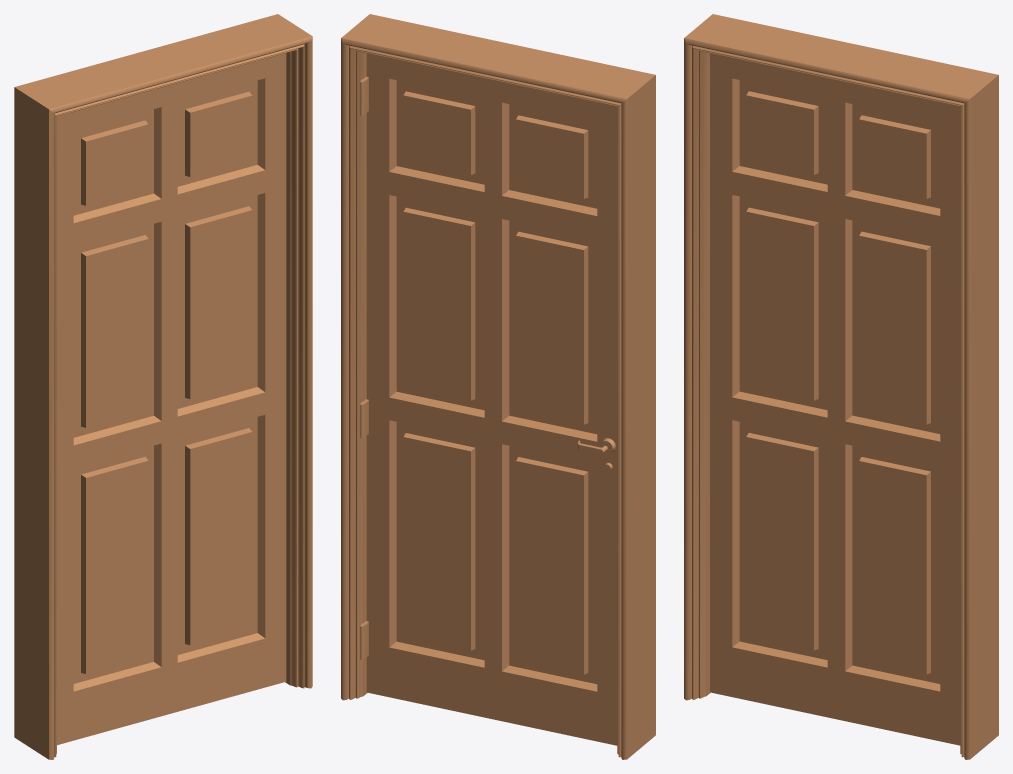
Rendered from puertag.gltf.
3 views of the same model, side by side, from view 1: azimuth 30°, elevation 25°; view 2: azimuth 150°, elevation 25°; view 3: azimuth 330°, elevation 25° (orthographic).
Visible parts, largest first — view 1: 10057_wooden_door_v3_iterations-2; view 2: 10057_wooden_door_v3_iterations-2; view 3: 10057_wooden_door_v3_iterations-2.
Boxes of the visible parts, box(x1,y1,x2,y2) form: 10057_wooden_door_v3_iterations-2: box(14, 14, 312, 759); 10057_wooden_door_v3_iterations-2: box(341, 14, 655, 759); 10057_wooden_door_v3_iterations-2: box(684, 14, 998, 759).
Bounding box in the file's own units: 4.39 × 9.88 × 1.19.
